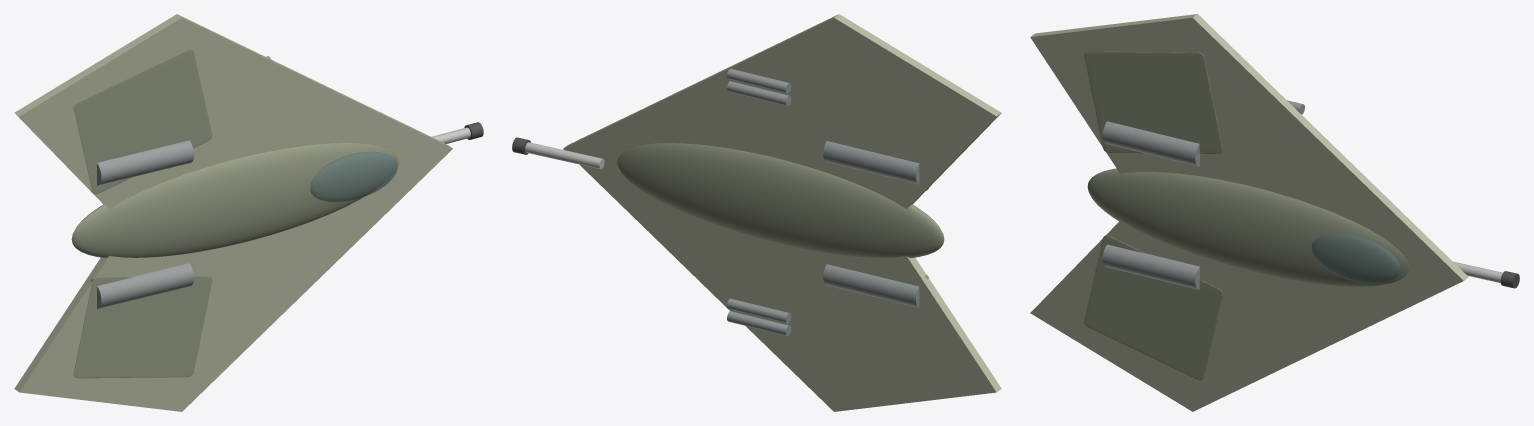
File: v-u29-vanguard-stealth-striker-lod1.glb
3 views of the same model, side by side, from view 1: azimuth 30°, elevation 25°; view 2: azimuth 150°, elevation 25°; view 3: azimuth 330°, elevation 25° (orthographic).
Visible parts, largest first — view 1: flying_wing_planform, flying_wing_core, flying_wing_elevon_1, flying_wing_elevon_-1, flying_wing_canopy, flying_wing_engine_0, flying_wing_engine_1; view 2: flying_wing_planform, flying_wing_core, flying_wing_engine_0, flying_wing_engine_1, flying_wing_gun_barrel_0, flying_wing_-1_tube_1, flying_wing_1_tube_1, flying_wing_1_tube_2, flying_wing_-1_tube_2; view 3: flying_wing_planform, flying_wing_core, flying_wing_elevon_1, flying_wing_elevon_-1, flying_wing_canopy, flying_wing_engine_0, flying_wing_engine_1, flying_wing_gun_barrel_0.
Part boxes in pixels (x1=…): flying_wing_planform: x1=14, y1=14, x2=452, y2=411; flying_wing_core: x1=71, y1=143, x2=398, y2=257; flying_wing_elevon_1: x1=73, y1=49, x2=212, y2=194; flying_wing_elevon_-1: x1=73, y1=276, x2=212, y2=378; flying_wing_canopy: x1=310, y1=151, x2=397, y2=202; flying_wing_engine_0: x1=97, y1=263, x2=193, y2=308; flying_wing_engine_1: x1=97, y1=140, x2=193, y2=185; flying_wing_planform: x1=563, y1=14, x2=1001, y2=411; flying_wing_core: x1=617, y1=143, x2=944, y2=258; flying_wing_engine_0: x1=823, y1=264, x2=919, y2=307; flying_wing_engine_1: x1=823, y1=141, x2=919, y2=184; flying_wing_gun_barrel_0: x1=525, y1=142, x2=604, y2=169; flying_wing_-1_tube_1: x1=727, y1=311, x2=791, y2=335; flying_wing_1_tube_1: x1=727, y1=81, x2=791, y2=105; flying_wing_1_tube_2: x1=727, y1=68, x2=791, y2=93; flying_wing_-1_tube_2: x1=727, y1=298, x2=791, y2=323; flying_wing_planform: x1=1030, y1=14, x2=1468, y2=411; flying_wing_core: x1=1087, y1=168, x2=1409, y2=286; flying_wing_elevon_1: x1=1084, y1=51, x2=1222, y2=153; flying_wing_elevon_-1: x1=1084, y1=235, x2=1222, y2=380; flying_wing_canopy: x1=1311, y1=233, x2=1400, y2=283; flying_wing_engine_0: x1=1102, y1=244, x2=1199, y2=289; flying_wing_engine_1: x1=1102, y1=121, x2=1199, y2=166; flying_wing_gun_barrel_0: x1=1453, y1=261, x2=1502, y2=283.
Size of what is drawn, in the model's own units: 15.13 by 12.04 by 1.42.
